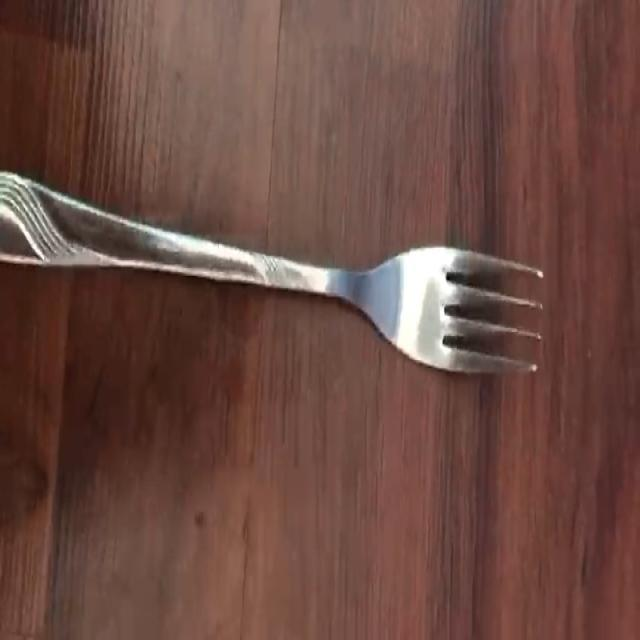spoon: (0, 173, 543, 373)
